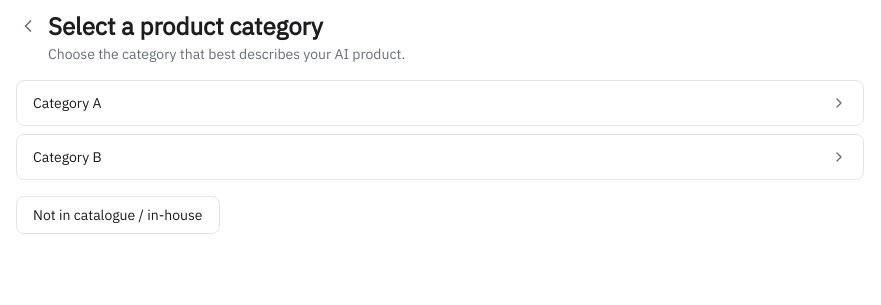
Test: DrillDownStep — accordion (D-56) › single-open: expanding a second category collapses the first
Expected: the text "Category A" is shown, [33,93,101,113]
Expand Category A
Click the button "Category A".
click(67, 103)  # box [16,80,864,126]
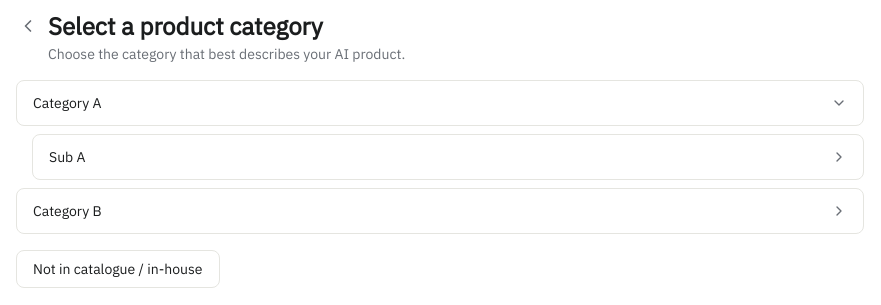
Expected: the text "Sub A" is shown, [49,147,86,167]
Expand Category B — should collapse Category A
Click the button "Category B".
click(67, 211)  # box [16,188,864,234]
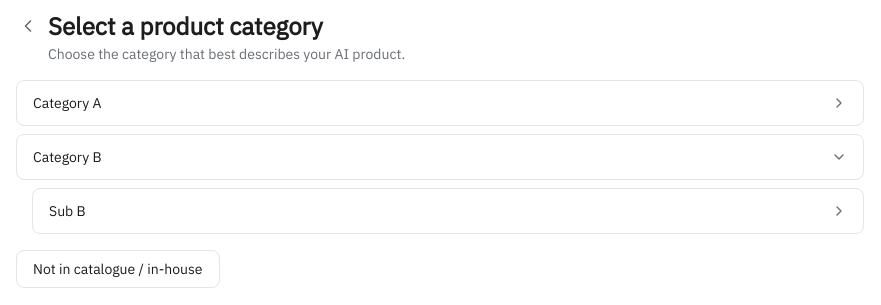
Expected: the text "Sub B" is shown, [49,201,86,221]
Expected: the button "Sub A" is gone
